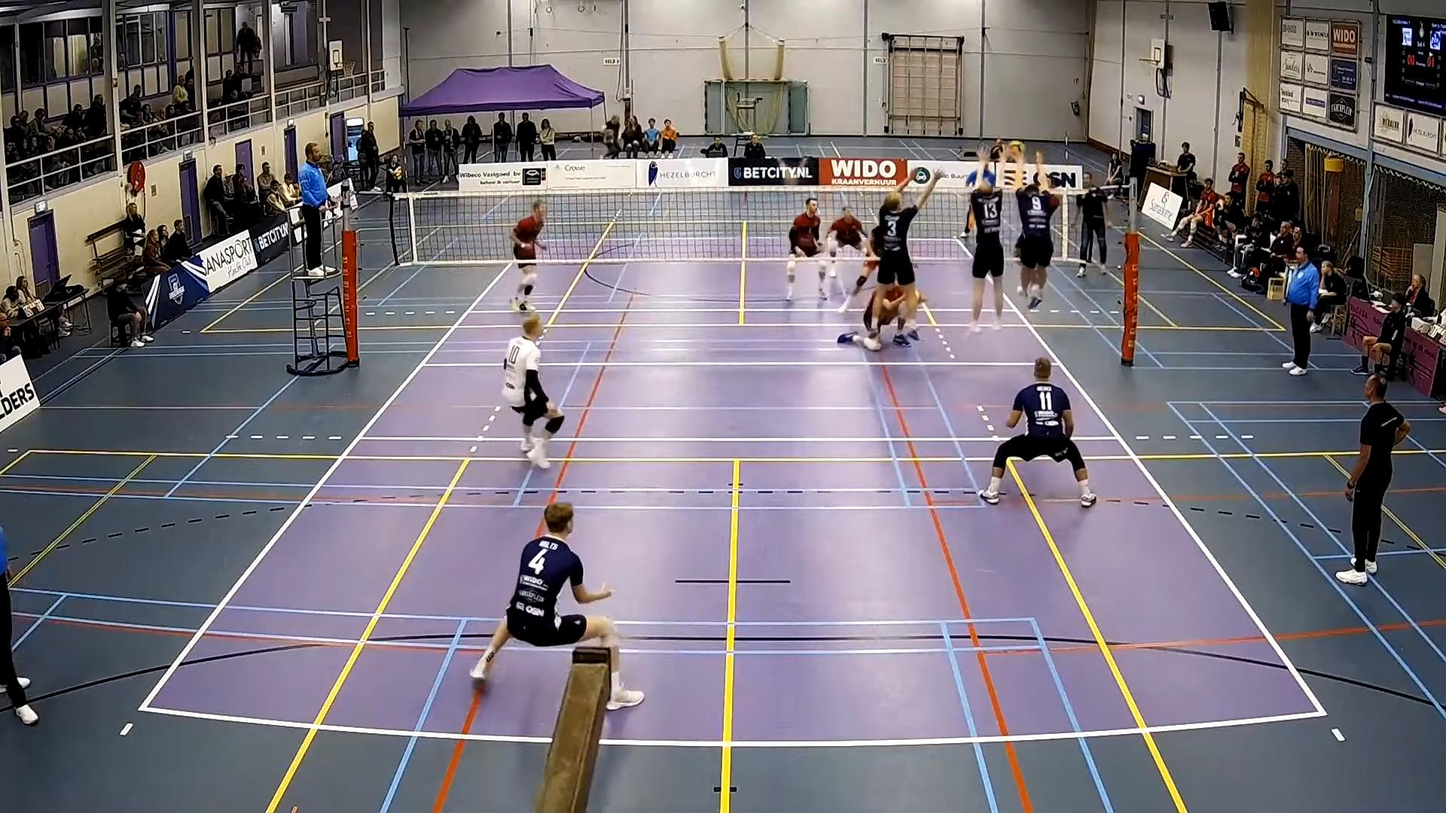Block: (863, 166, 942, 349), (1006, 154, 1059, 318), (961, 158, 1007, 328)
Player: (470, 502, 643, 709), (980, 357, 1097, 507), (502, 315, 564, 469), (837, 285, 926, 351), (786, 197, 831, 300), (510, 200, 546, 310), (838, 227, 881, 312), (825, 206, 863, 280)
ball: (1009, 141, 1028, 153)
